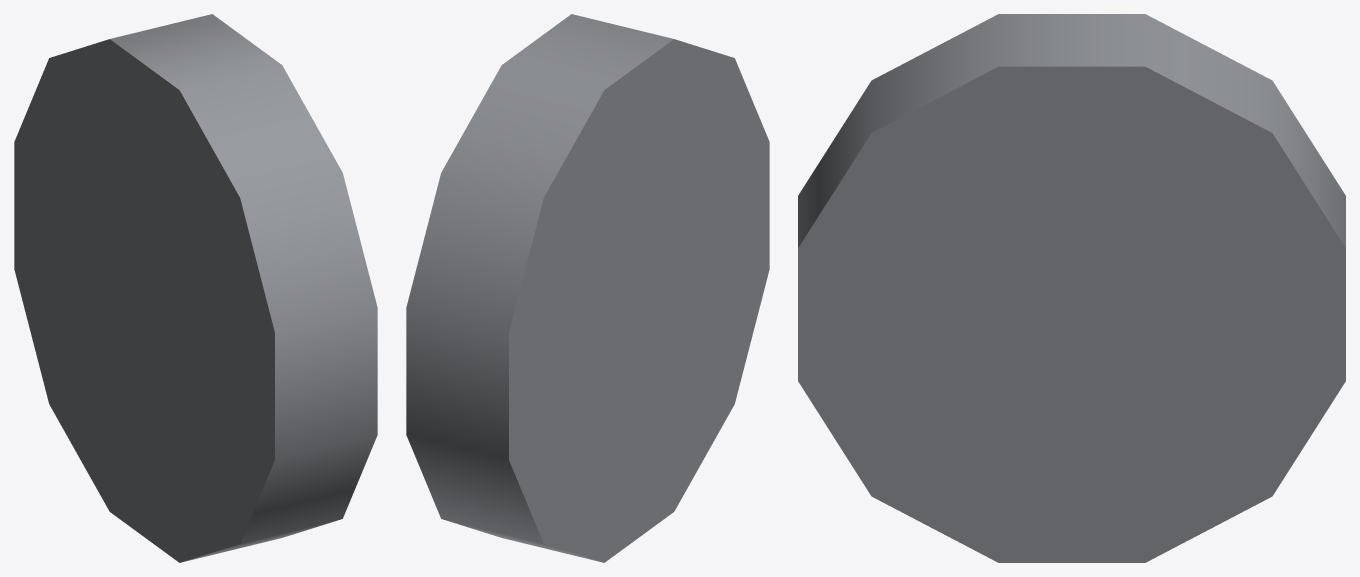
The model's file is band_x.obj.
3 renders of one model, left to right at view 1: azimuth 30°, elevation 25°; view 2: azimuth 150°, elevation 25°; view 3: azimuth 270°, elevation 25°, orthographic. The views are drawn at different scales.
Visible parts, largest first — view 1: band_x; view 2: band_x; view 3: band_x.
Part boxes in pixels (x1,y1,x2,y2): band_x: [14, 14, 377, 562]; band_x: [406, 14, 769, 562]; band_x: [798, 14, 1345, 562].
Size of the model in its own units: 0.0562 by 0.2475 by 0.2475.
